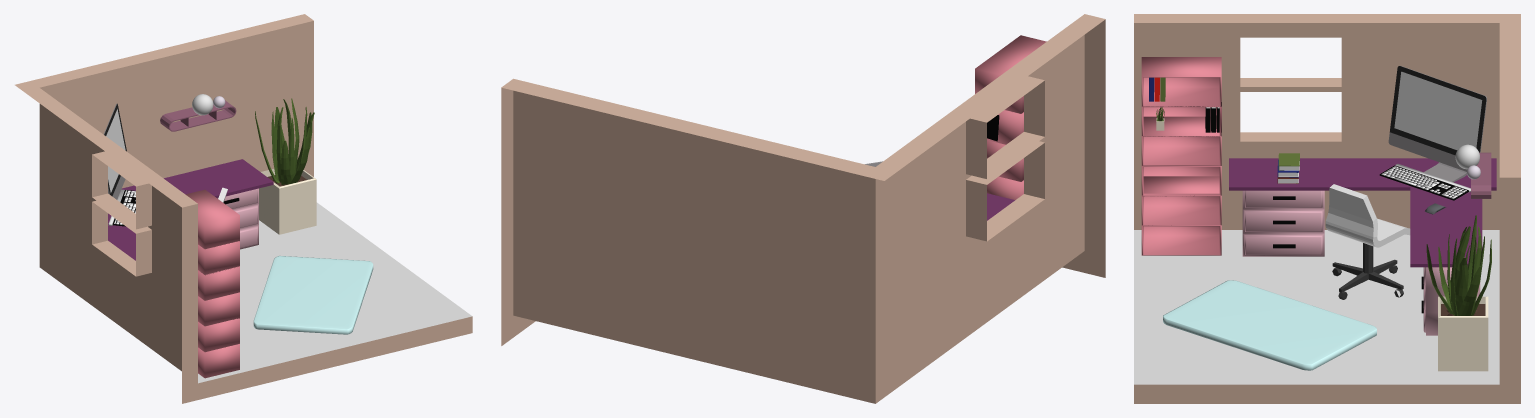
The model's file is Office_Scene_Mac_Test.gltf.
3 views of the same model, side by side, from view 1: azimuth 30°, elevation 25°; view 2: azimuth 150°, elevation 25°; view 3: azimuth 270°, elevation 25° (orthographic). The views are drawn at different scales.
Parts seen in each view (by area): view 1: EntireRoom, Carpet, BookShelf, BigTree, Desk, WallShelf, iMac.001, iMac, Keyboard; view 2: EntireRoom, BookShelf; view 3: EntireRoom, Desk, BookShelf, Carpet, BigTree, iMac.001, Chair, iMac, Keyboard, WallShelf, Sphere.001, TopBookonDesk.
Boxes of the visible parts, <box> form: EntireRoom: <box>15,14,472,403</box>; Carpet: <box>253,256,373,334</box>; BookShelf: <box>185,189,239,378</box>; BigTree: <box>255,98,316,234</box>; Desk: <box>108,159,273,260</box>; WallShelf: <box>160,100,236,131</box>; iMac.001: <box>106,109,125,192</box>; iMac: <box>103,103,126,199</box>; Keyboard: <box>108,189,135,226</box>; EntireRoom: <box>501,14,1105,403</box>; BookShelf: <box>975,35,1046,199</box>; EntireRoom: <box>1134,14,1520,403</box>; Desk: <box>1229,158,1496,335</box>; BookShelf: <box>1141,57,1221,255</box>; Carpet: <box>1163,280,1376,370</box>; BigTree: <box>1426,215,1491,371</box>; iMac.001: <box>1394,71,1482,150</box>; Chair: <box>1325,184,1410,299</box>; iMac: <box>1388,66,1486,182</box>; Keyboard: <box>1379,164,1470,200</box>; WallShelf: <box>1471,152,1491,198</box>; Sphere.001: <box>1455,144,1479,169</box>; TopBookonDesk: <box>1278,153,1299,170</box>.
Bounding box in the file's own units: 8.9 × 5.74 × 8.9.
